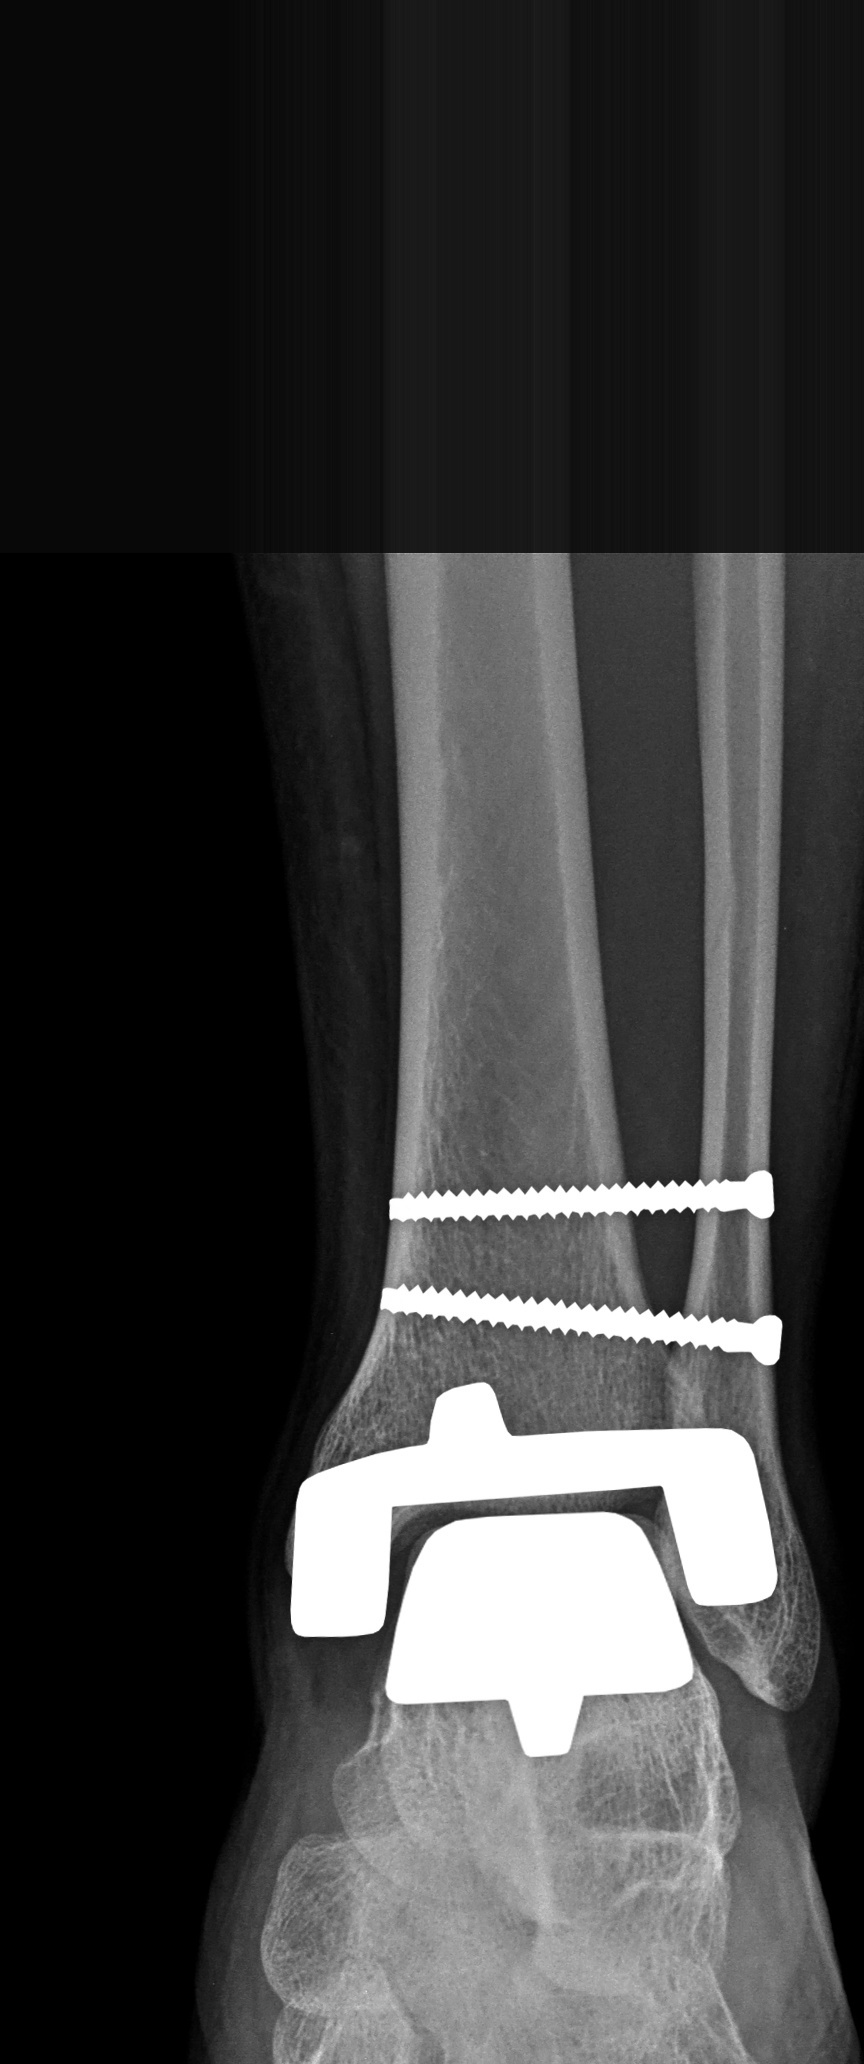Ankle - Agility - DePuy: (238, 1158, 811, 1776)
